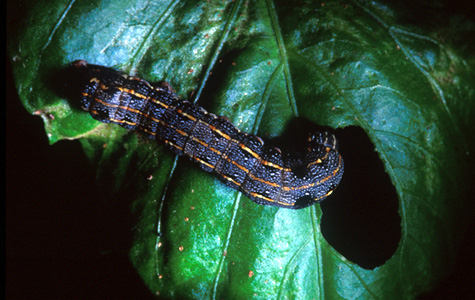Armyworm: (60, 41, 349, 222)
